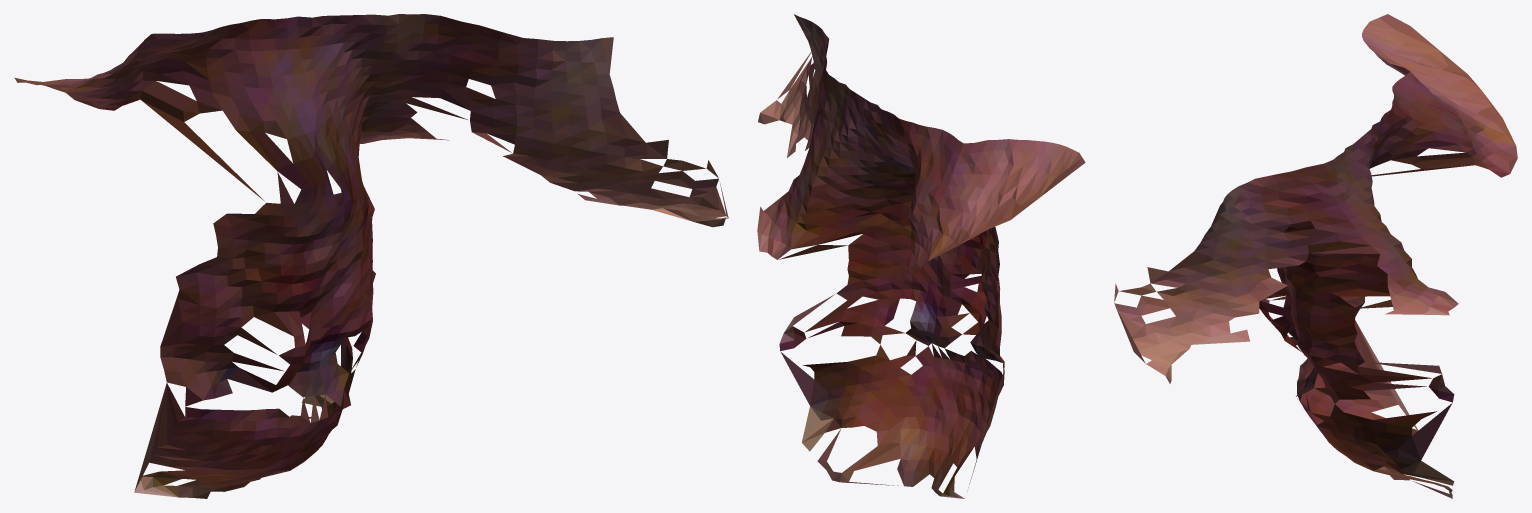
3 renders of one model, left to right at view 1: azimuth 30°, elevation 25°; view 2: azimuth 150°, elevation 25°; view 3: azimuth 270°, elevation 25°, orthographic. The views are drawn at different scales.
Visible parts, largest first — view 1: ofMesh; view 2: ofMesh; view 3: ofMesh.
Part boxes in pixels (left/top/right/bottom): ofMesh: left=14, top=14, right=728, bottom=498; ofMesh: left=757, top=14, right=1085, bottom=498; ofMesh: left=1114, top=14, right=1517, bottom=498.
Size of the model in its own units: 348 by 276 by 267.
Materials: 1 (1 with a texture image).
